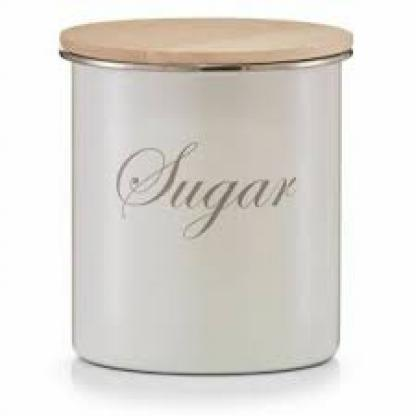METAL: (59, 50, 351, 368)
